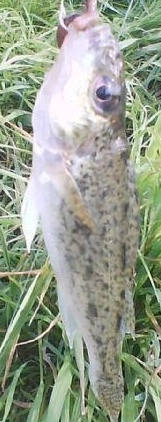Gymnocephalus cernuus: (20, 20, 141, 422)
